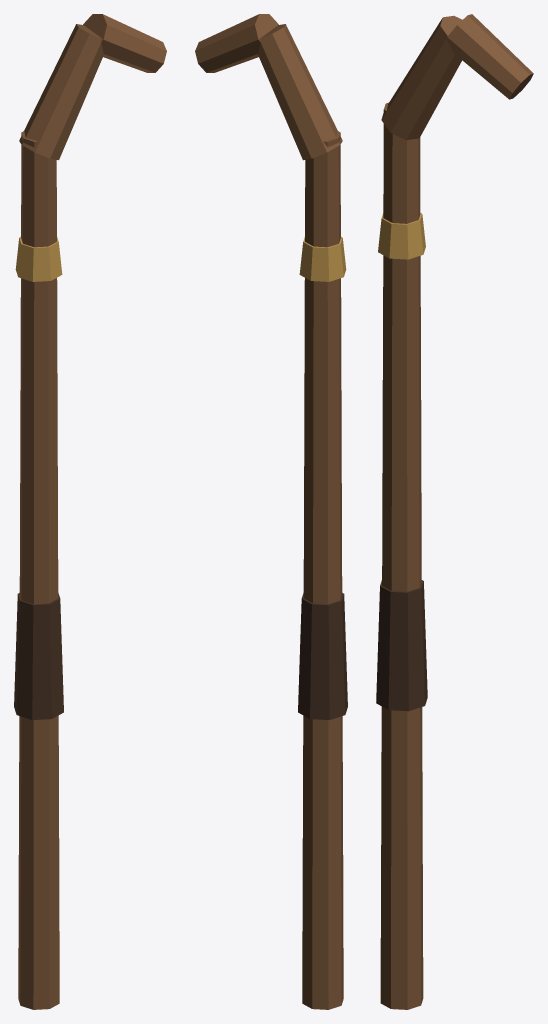
The model's file is willow_staff.glb.
3 renders of one model, left to right at view 1: azimuth 30°, elevation 25°; view 2: azimuth 150°, elevation 25°; view 3: azimuth 330°, elevation 25°, orthographic. The views are drawn at different scales.
Parts seen in each view (by area): view 1: Shaft, Grip, WillowCrook, CrookTip, Binding; view 2: Shaft, Grip, WillowCrook, CrookTip, Binding; view 3: Shaft, Grip, WillowCrook, CrookTip, Binding.
Part boxes in pixels (bbox=[...]): Shaft: bbox=[18, 131, 59, 1009]; Grip: bbox=[14, 593, 63, 719]; WillowCrook: bbox=[19, 24, 103, 160]; CrookTip: bbox=[83, 14, 166, 72]; Binding: bbox=[15, 236, 62, 281]; Shaft: bbox=[302, 131, 343, 1009]; Grip: bbox=[298, 593, 347, 719]; WillowCrook: bbox=[258, 24, 342, 160]; CrookTip: bbox=[195, 14, 278, 72]; Binding: bbox=[299, 236, 346, 281]; Shaft: bbox=[380, 102, 423, 1009]; Grip: bbox=[376, 580, 427, 711]; WillowCrook: bbox=[381, 15, 462, 140]; CrookTip: bbox=[446, 14, 533, 99]; Binding: bbox=[378, 213, 425, 259].
Bounding box in the file's own units: 0.1894 × 1.2 × 0.058.
